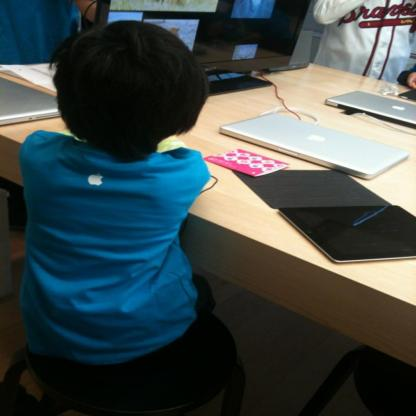board: (217, 112, 411, 181), (326, 90, 415, 128), (0, 77, 62, 126)
